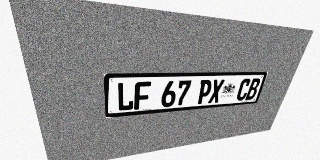6: (161, 81, 178, 107)
7: (175, 80, 192, 106)
B: (245, 78, 261, 100)
C: (235, 78, 252, 101)
F: (134, 81, 151, 110)
L: (117, 82, 134, 111)
P: (196, 80, 213, 104)
X: (208, 79, 225, 103)
